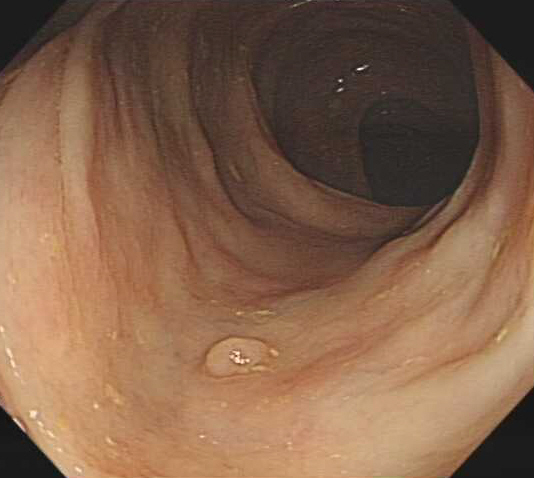adenoma: (199, 334, 272, 379)
